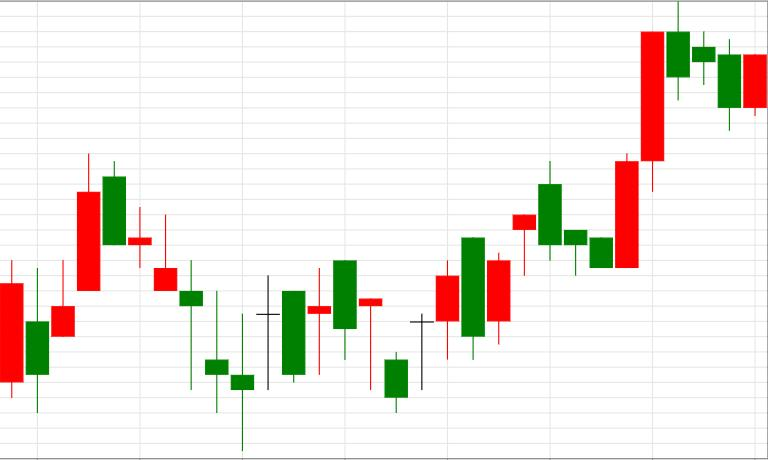bearish_engulfing_fall: (384, 237, 485, 413)
bullish_engulfing_rise: (513, 153, 639, 276)
